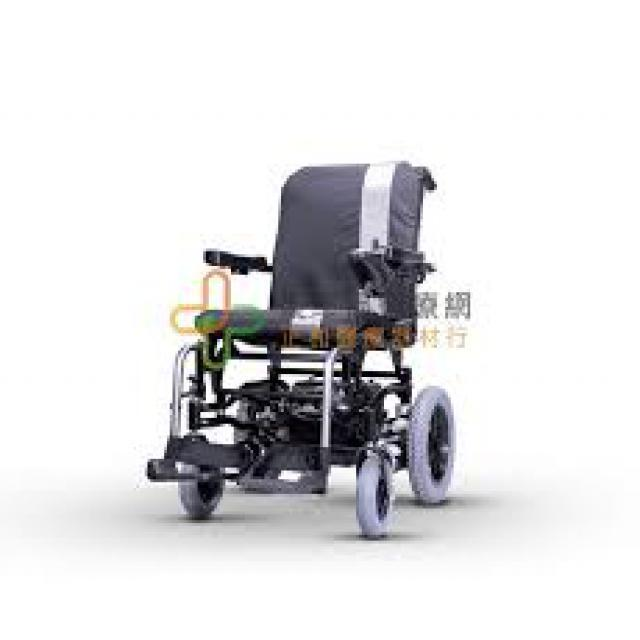wheelchairs: (147, 160, 456, 544)
